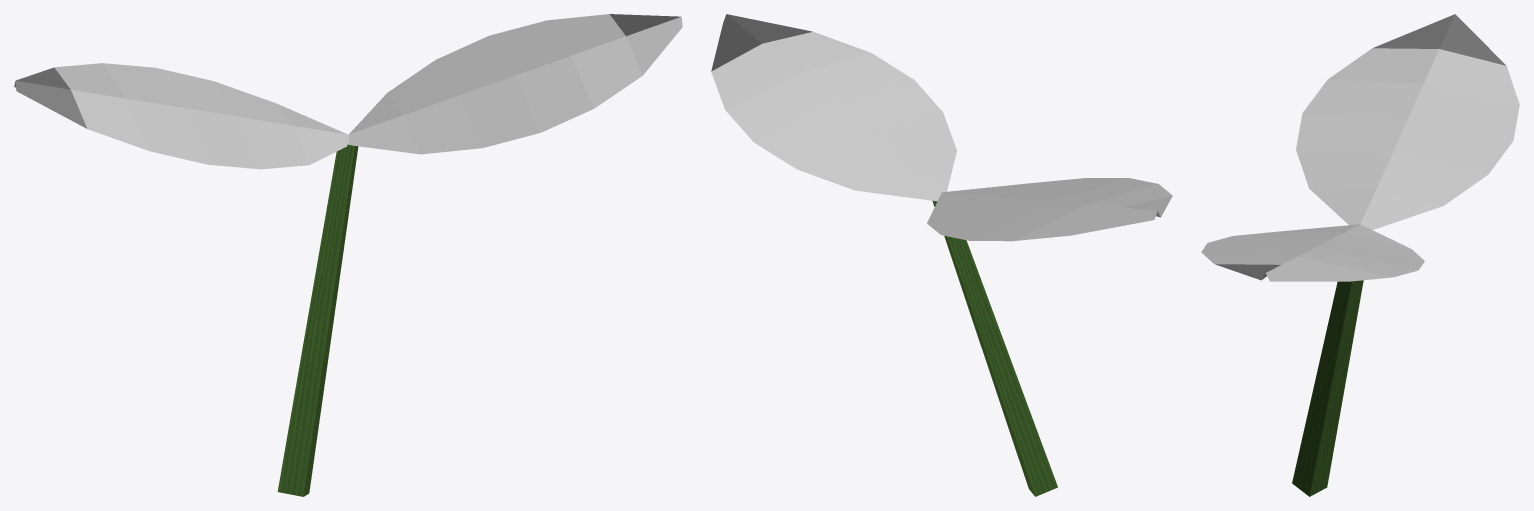
The model's file is plant_0_1_0_lod.obj.
3 views of the same model, side by side, from view 1: azimuth 30°, elevation 25°; view 2: azimuth 150°, elevation 25°; view 3: azimuth 270°, elevation 25° (orthographic). The views are drawn at different scales.
Visible parts, largest first — view 1: model; view 2: model; view 3: model.
Boxes of the visible parts, box(x1,y1,x2,y2) form: model: box(14, 14, 682, 496); model: box(711, 14, 1172, 496); model: box(1201, 14, 1519, 496).
Size of the model in its own units: 0.2159 by 0.1485 by 0.1118.
